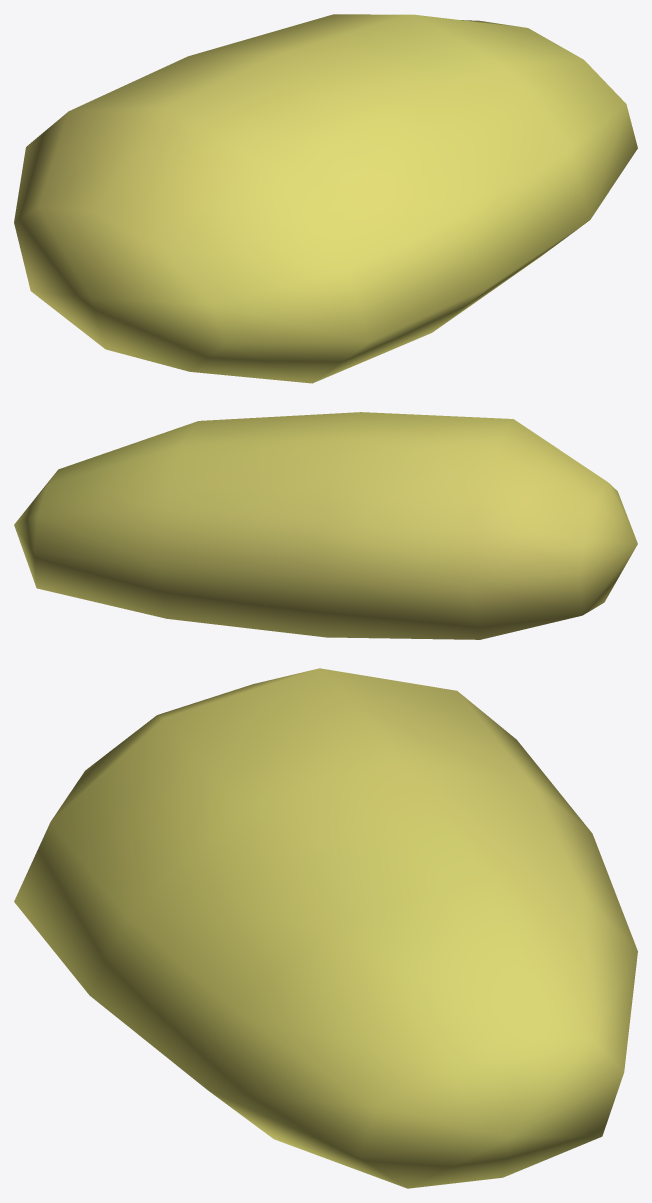
The model's file is PC_Woman_Eyebrow000_R.glb.
3 views of the same model, one above another, from view 1: azimuth 30°, elevation 25°; view 2: azimuth 150°, elevation 25°; view 3: azimuth 270°, elevation 25° (orthographic). The views are drawn at different scales.
Visible parts, largest first — view 1: PC_Woman_Eyebrow000_R_mesh; view 2: PC_Woman_Eyebrow000_R_mesh; view 3: PC_Woman_Eyebrow000_R_mesh.
Part boxes in pixels (x1,y1,x2,y2): PC_Woman_Eyebrow000_R_mesh: (14,14,637,383); PC_Woman_Eyebrow000_R_mesh: (14,412,637,639); PC_Woman_Eyebrow000_R_mesh: (14,668,637,1188).
Size of the model in its own units: 0.11 by 0.0383 by 0.0806.
Materials: 1 (1 with a texture image).
